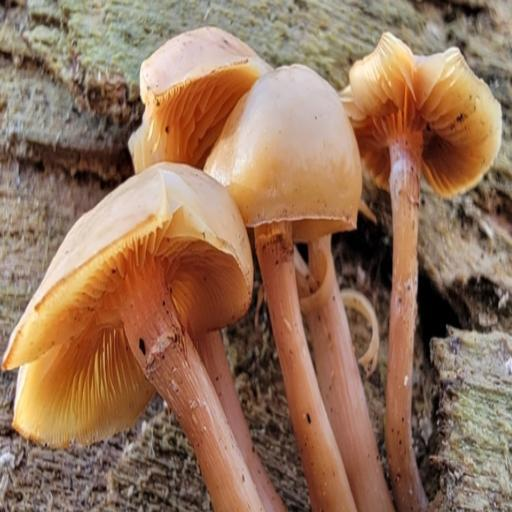mushroom: (14, 21, 502, 456)
